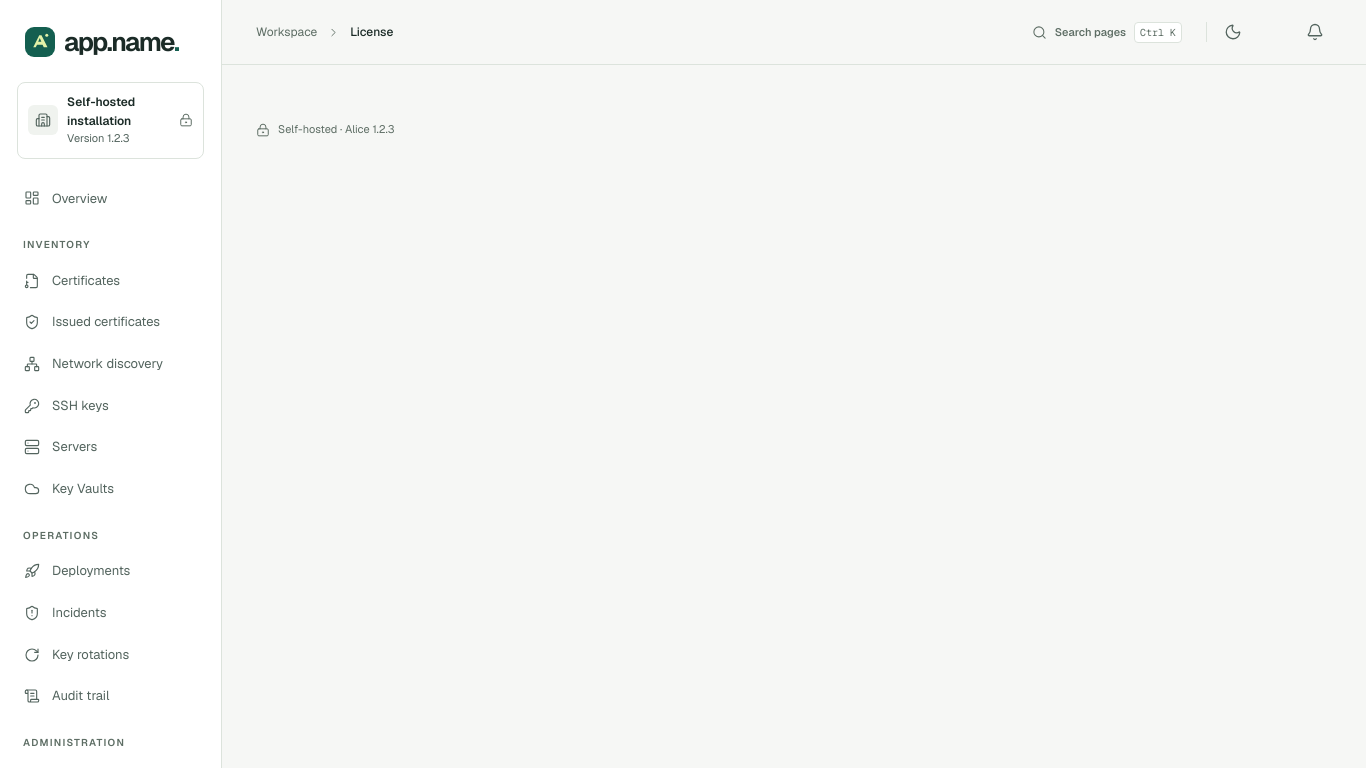
it: attention bell › reads /alerts only while open and shows each condition with its place
This screenshot has width=1366, height=768.
Expected: the navigation bar named "Main navigation" is shown, [13,176,208,767]
Click the button named "View attention items" at (1315, 32), box [1298,15,1332,49]
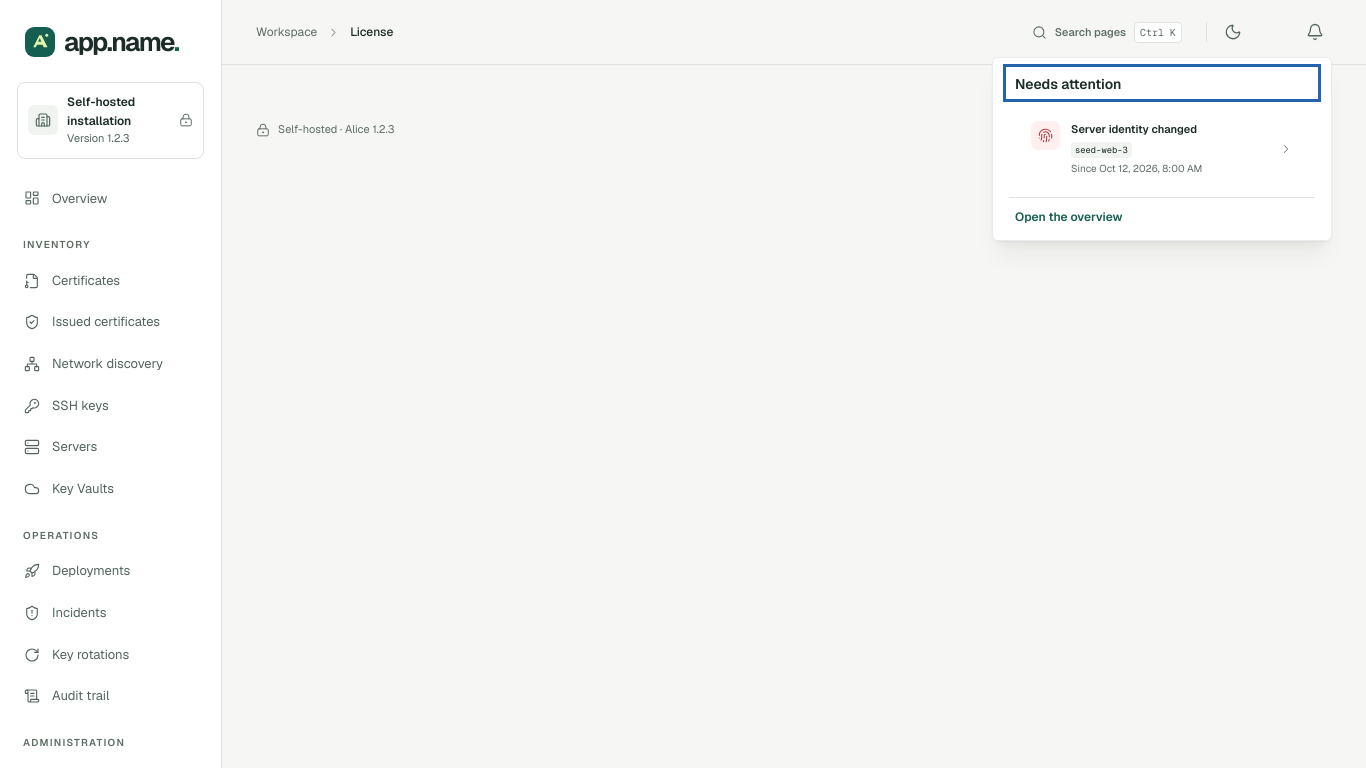
Result: the text "seed-web-3" is shown at [1071,142,1132,158]
